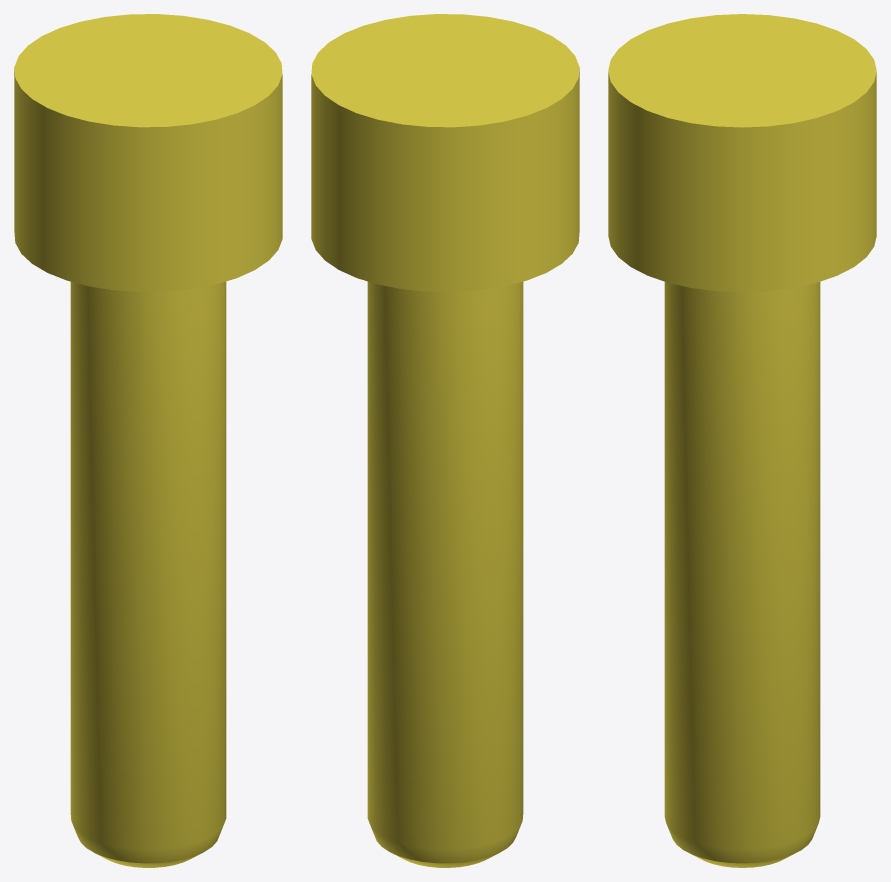
3 views of the same model, side by side, from view 1: azimuth 30°, elevation 25°; view 2: azimuth 150°, elevation 25°; view 3: azimuth 270°, elevation 25° (orthographic).
Parts seen in each view (by area): view 1: TestTube; view 2: TestTube; view 3: TestTube.
Boxes of the visible parts, x1,y1,x2,y2 form: TestTube: (14,14,282,867); TestTube: (311,14,579,867); TestTube: (608,14,876,867).
Bounding box in the file's own units: 0.1598 × 0.5116 × 0.1598.
